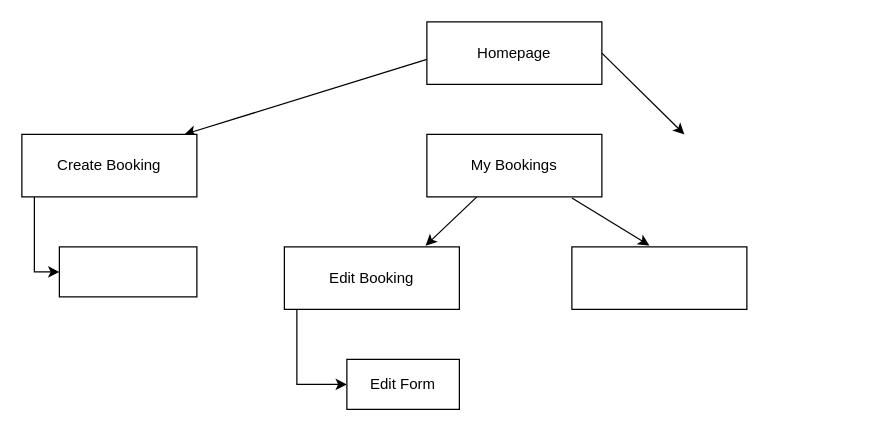
The diagram is 869 pixels wide and 431 high, and some of its shapes have lost their labels. The shapes that lost their labels are listed below. From the top down, each one's box as (x1, y1, x2, y2) in pixels, then its label:
(58, 246, 197, 297): Booking Form
(571, 246, 747, 309): Delete Booking
